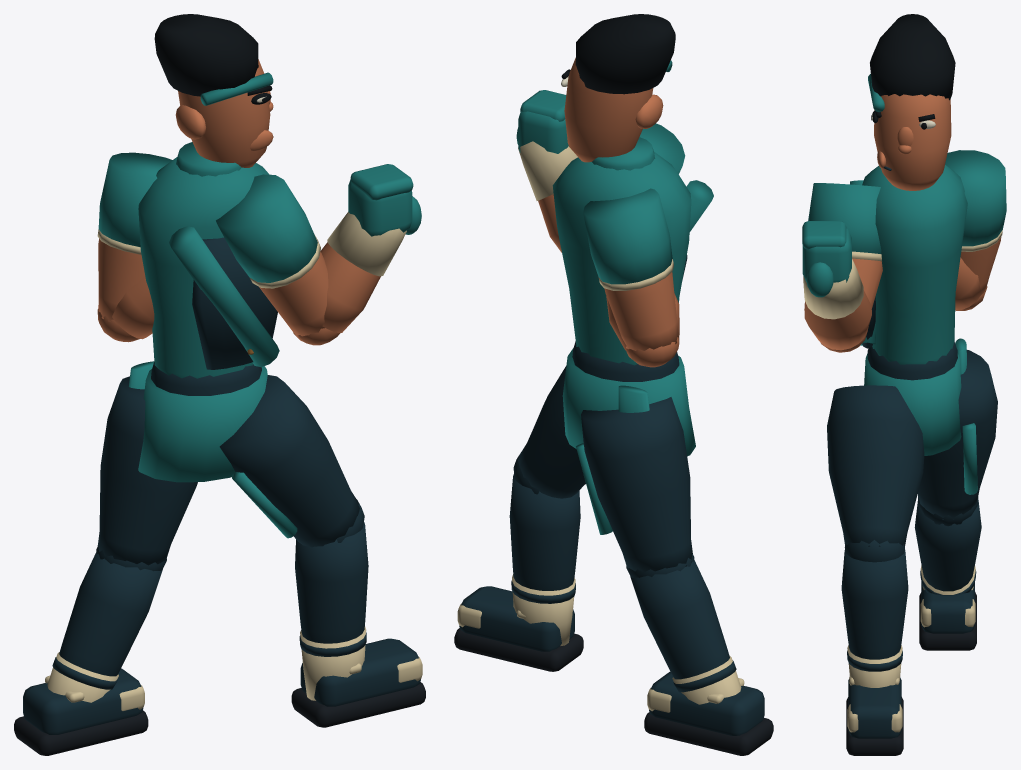
The model's file is lin-rig-v4.glb.
The picture shows the model from 3 angles, left to right: view 1: azimuth 30°, elevation 25°; view 2: azimuth 150°, elevation 25°; view 3: azimuth 270°, elevation 25°; orthographic projection. The views are drawn at different scales.
Visible parts, largest first — view 1: lin__torso_surface, lin__thighF_surface, lin__head_surface, lin__upperArmF_surface, lin__pelvis_surface, lin__thighB_surface, lin__shinB_surface, lin__shinF_surface, lin__footB_surface, lin__upperArmB_surface, lin__footF_surface, lin__forearmF_surface (+2 smaller); view 2: lin__thighB_surface, lin__torso_surface, lin__head_surface, lin__upperArmB_surface, lin__shinB_surface, lin__shinF_surface, lin__footB_surface, lin__footF_surface, lin__pelvis_surface, lin__thighF_surface, lin__handF_surface, lin__forearmF_surface (+2 smaller); view 3: lin__torso_surface, lin__thighF_surface, lin__head_surface, lin__shinF_surface, lin__thighB_surface, lin__pelvis_surface, lin__upperArmB_surface, lin__upperArmF_surface, lin__shinB_surface, lin__footF_surface, lin__forearmF_surface, lin__footB_surface (+2 smaller).
Part boxes in pixels (box(x1,y1,x2,y2)): lin__torso_surface: box(138, 142, 279, 378); lin__thighF_surface: box(219, 375, 364, 547); lin__head_surface: box(154, 14, 273, 167); lin__upperArmF_surface: box(216, 174, 339, 345); lin__pelvis_surface: box(138, 362, 267, 482); lin__thighB_surface: box(96, 376, 197, 571); lin__shinB_surface: box(47, 552, 162, 702); lin__shinF_surface: box(295, 522, 368, 700); lin__footB_surface: box(14, 668, 148, 755); lin__upperArmB_surface: box(97, 152, 172, 342); lin__footF_surface: box(291, 638, 425, 727); lin__forearmF_surface: box(320, 212, 406, 333); lin__thighB_surface: box(576, 397, 694, 577); lin__torso_surface: box(552, 137, 713, 365); lin__head_surface: box(561, 14, 675, 162); lin__upperArmB_surface: box(583, 188, 679, 367); lin__shinB_surface: box(630, 560, 741, 704); lin__shinF_surface: box(509, 474, 580, 645); lin__footB_surface: box(644, 671, 773, 755); lin__footF_surface: box(454, 586, 583, 671); lin__pelvis_surface: box(562, 341, 695, 456); lin__thighF_surface: box(513, 366, 585, 498); lin__handF_surface: box(516, 90, 568, 153); lin__forearmF_surface: box(518, 141, 577, 252); lin__torso_surface: box(850, 165, 967, 364); lin__thighF_surface: box(827, 385, 924, 562); lin__head_surface: box(868, 14, 955, 190); lin__shinF_surface: box(841, 550, 908, 687); lin__thighB_surface: box(917, 350, 997, 526); lin__pelvis_surface: box(864, 341, 961, 455); lin__upperArmB_surface: box(945, 150, 1006, 310); lin__upperArmF_surface: box(808, 183, 882, 352); lin__shinB_surface: box(914, 500, 981, 595); lin__footF_surface: box(846, 676, 903, 755); lin__forearmF_surface: box(803, 259, 871, 350); lin__footB_surface: box(919, 582, 976, 650).
Bounding box in the file's own units: 1.74 × 3.39 × 0.9765.
